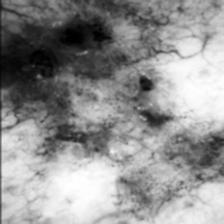Potentially Malignant Skin Tumors: (54, 13, 113, 58), (122, 74, 166, 96)
